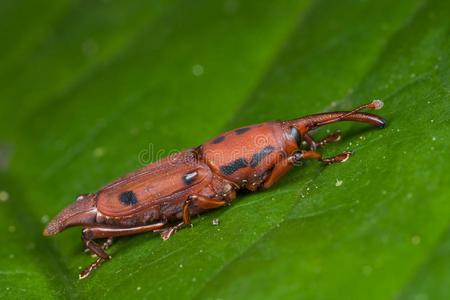Curculionidae: (42, 99, 389, 281)
